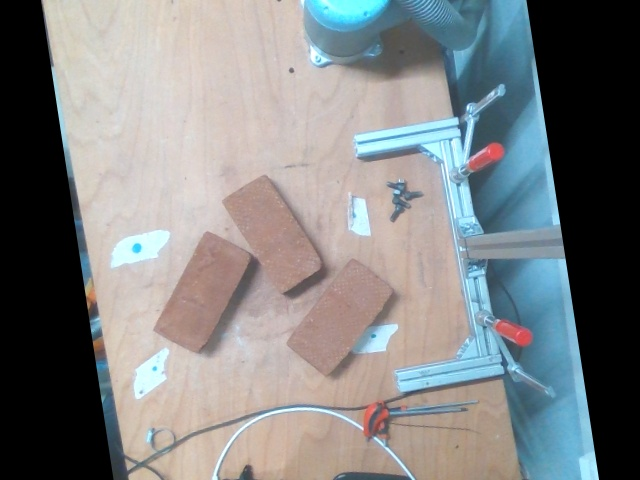brick: (284, 258, 394, 376), (152, 232, 252, 355), (221, 176, 323, 293)
